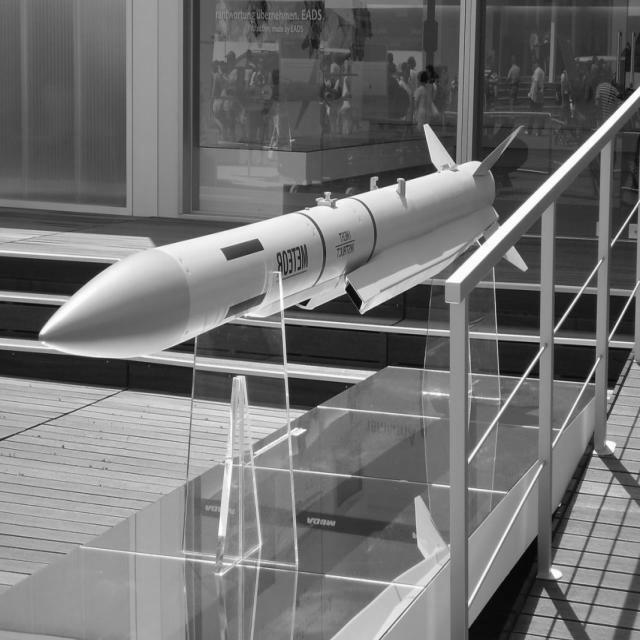Missile: (34, 155, 546, 369)
